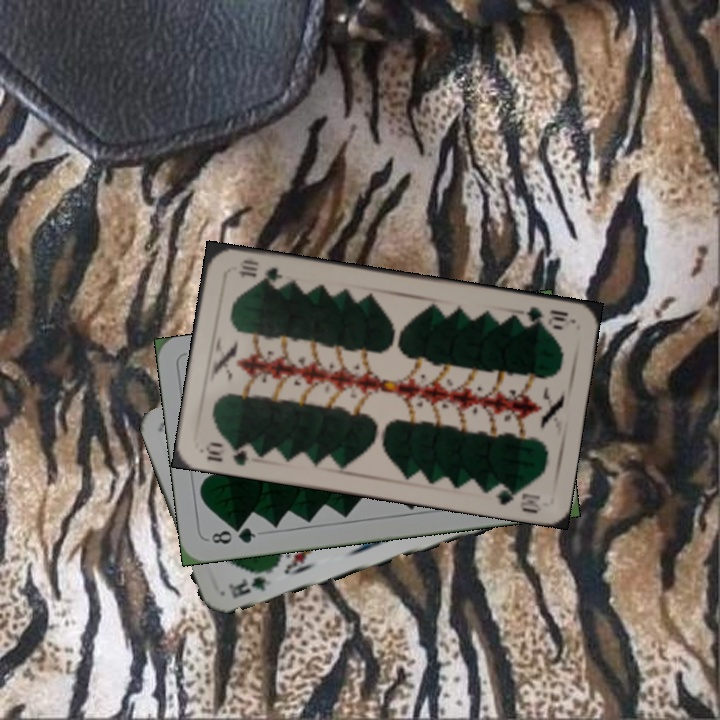G10: (201, 438, 259, 468), (514, 302, 571, 331)
G8: (207, 522, 259, 547)
GK: (226, 573, 274, 601)
